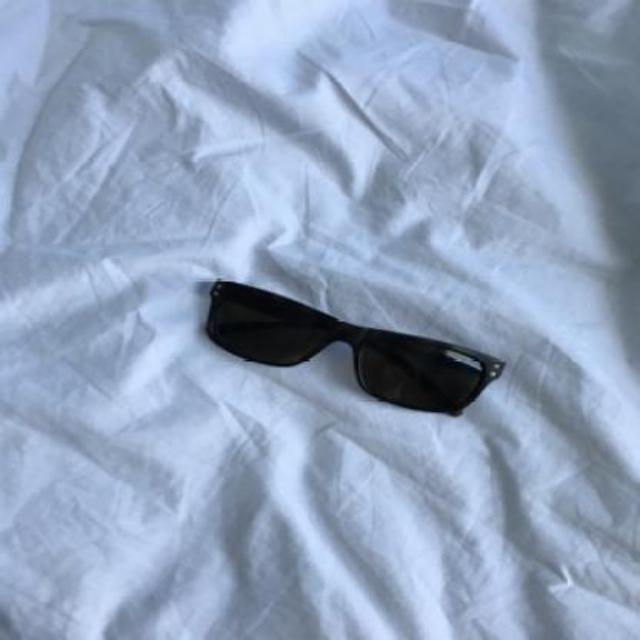sunglasses: (200, 277, 508, 418)
